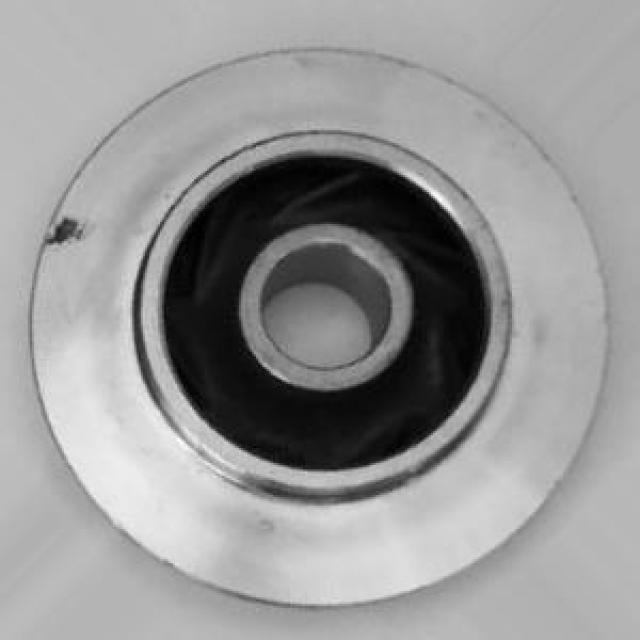Defect: (44, 210, 91, 251)
